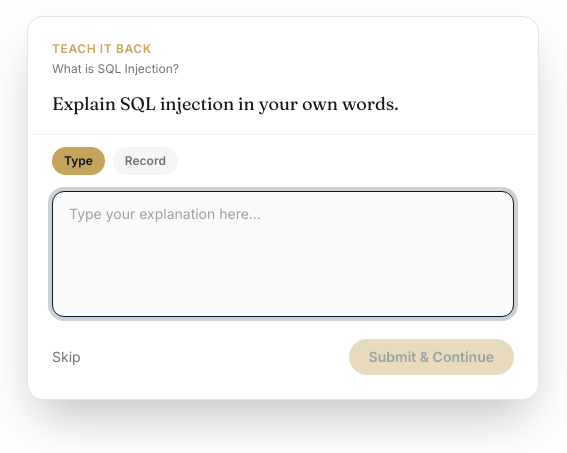
it: TeachBackModal — Story 2-63 / BR-6 voice input › switches to the recorder and hides the typed Submit button when Record is selected
This screenshot has width=567, height=453.
Step 1. Click the tab "Record" → coordinates (145, 161), box [113,147,178,175]
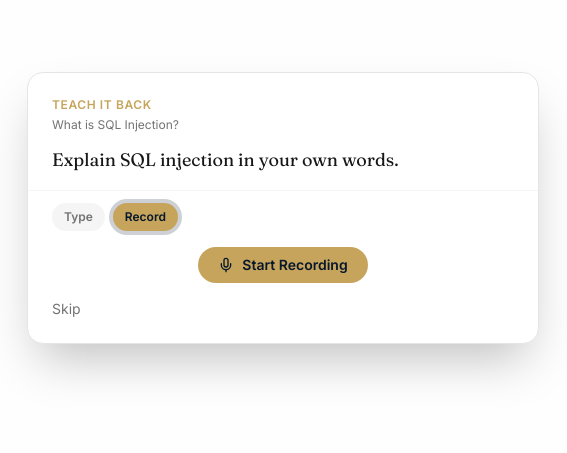
Check: the field with placeholder "Type your explanation here…" is not shown
Check: the button "Start Recording" is shown, box [198,247,368,283]
Check: the button "Submit & Continue" is gone
